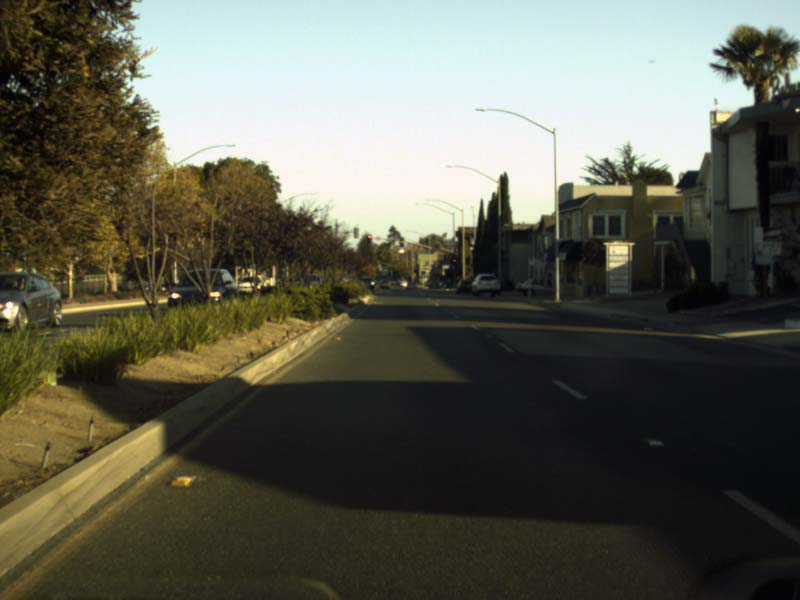Red: (367, 234, 370, 242)
Yellow: (451, 256, 456, 262), (399, 238, 402, 245)
